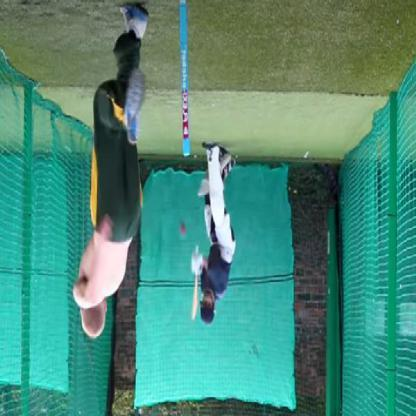ball: (179, 216, 190, 239)
